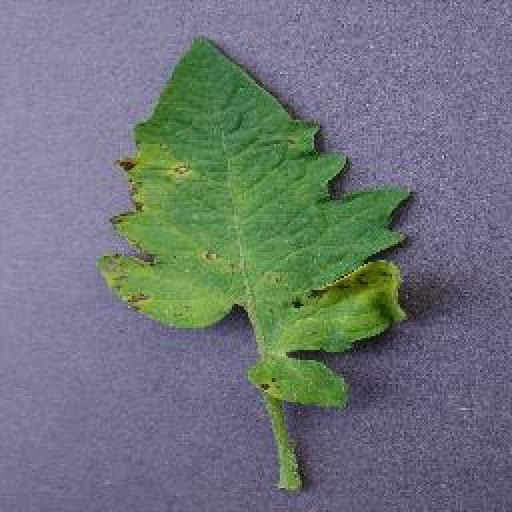Septoria: (100, 33, 411, 408)
